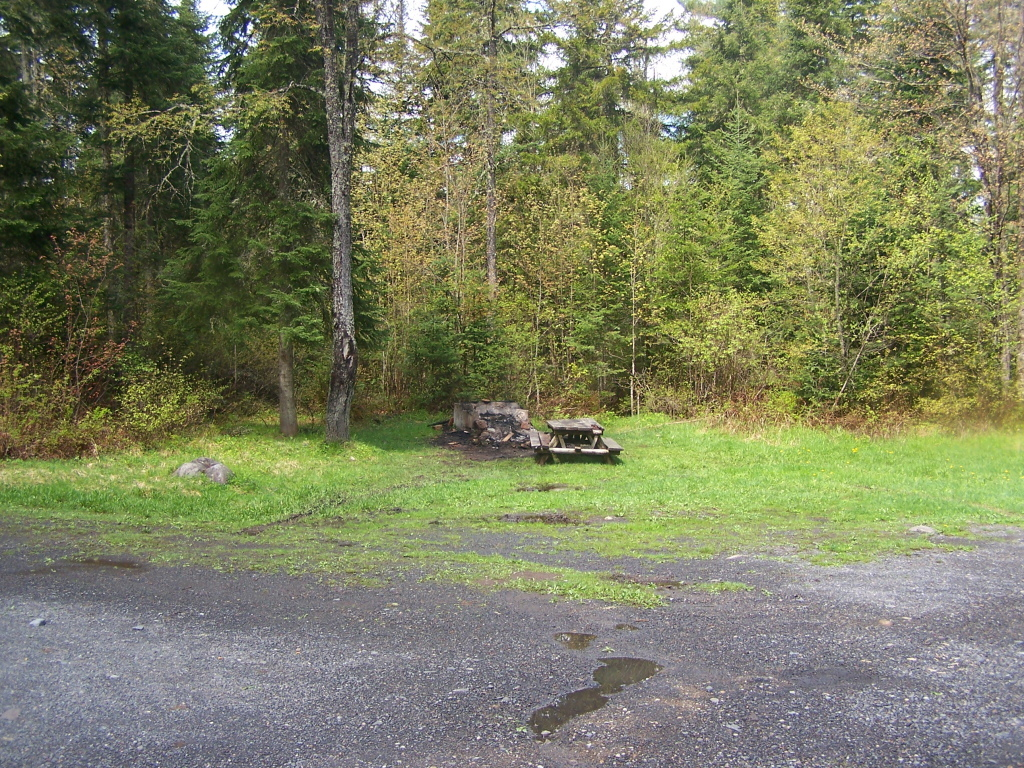Tree: (0, 0, 1022, 437), (716, 37, 997, 457)
